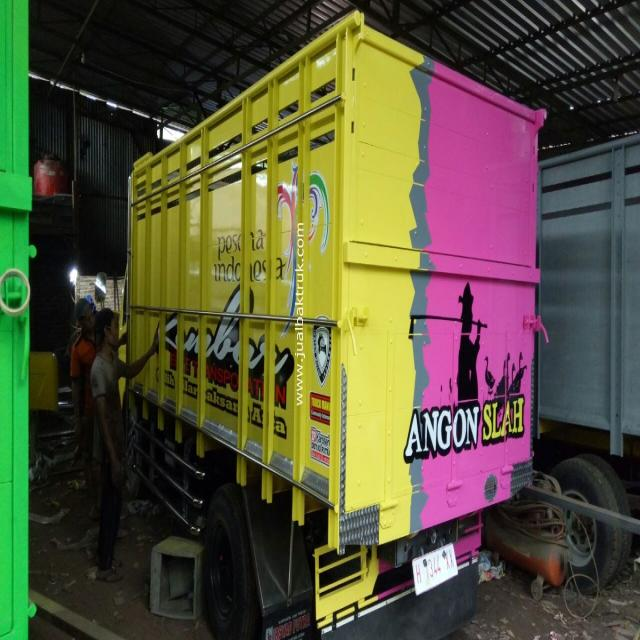truck: (115, 18, 547, 639)
